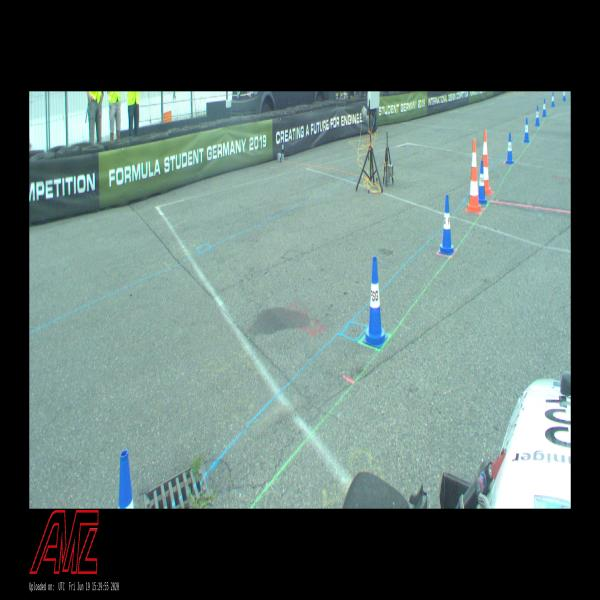blue_cone: (362, 256, 388, 348), (438, 195, 454, 255), (119, 449, 134, 509), (479, 161, 488, 204), (506, 133, 514, 164), (524, 117, 530, 143), (535, 106, 540, 126), (542, 98, 547, 117), (551, 91, 555, 107), (562, 92, 565, 100)
large_orange_cone: (466, 138, 484, 215), (483, 130, 492, 195)
